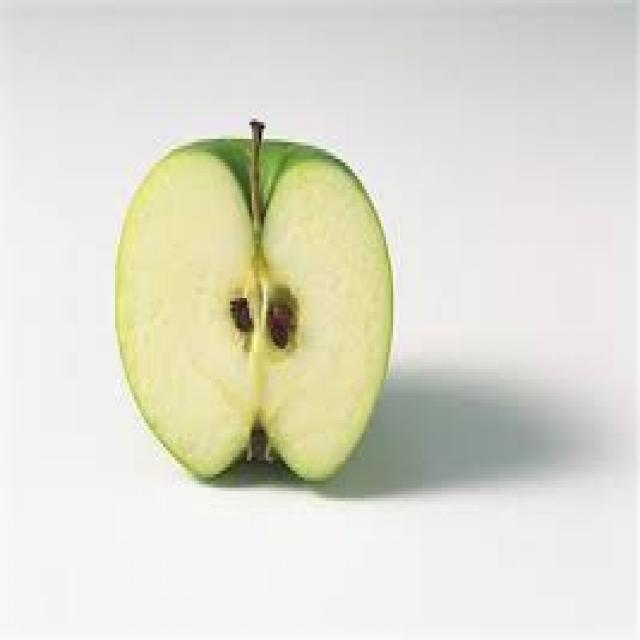Apple: (111, 134, 392, 479)
